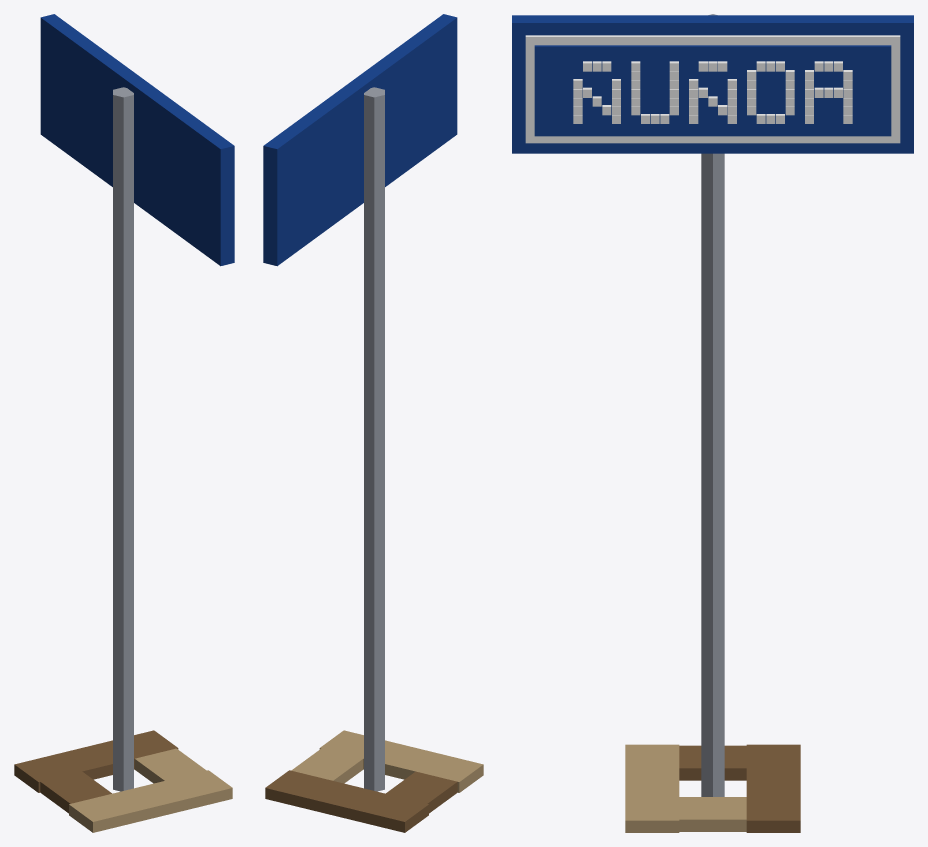
The model's file is letrero_comuna_nunoa.obj.
The picture shows the model from 3 angles, left to right: view 1: azimuth 30°, elevation 25°; view 2: azimuth 150°, elevation 25°; view 3: azimuth 270°, elevation 25°; orthographic projection. The views are drawn at different scales.
Parts seen in each view (by area): view 1: letrero_comuna_nunoa; view 2: letrero_comuna_nunoa; view 3: letrero_comuna_nunoa.
Part boxes in pixels (box(x1,y1,x2,y2)): letrero_comuna_nunoa: box(14, 14, 234, 832); letrero_comuna_nunoa: box(263, 14, 483, 832); letrero_comuna_nunoa: box(512, 14, 913, 832).
Size of the model in its own units: 0.8 by 3.84 by 1.79.
